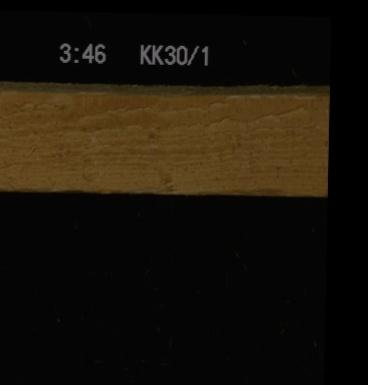wave: (189, 177, 286, 195)
